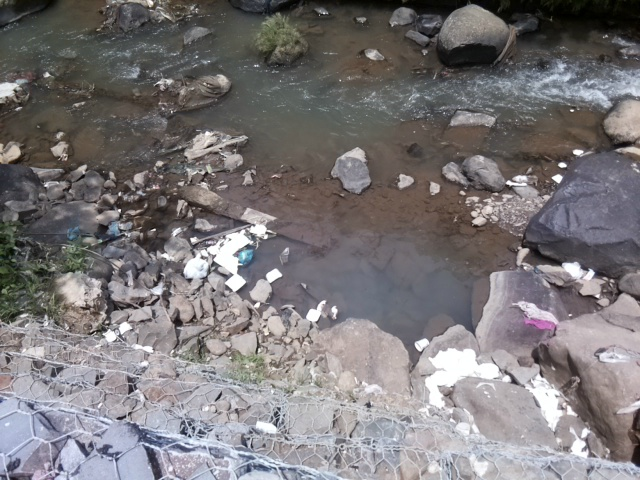Sampah_Plastik: (420, 342, 502, 406), (526, 373, 568, 429), (512, 300, 562, 332), (181, 255, 209, 281), (561, 259, 585, 280), (235, 247, 256, 267)
Sampah_Styrofoam: (211, 229, 248, 270), (223, 272, 250, 292), (265, 263, 284, 285)
